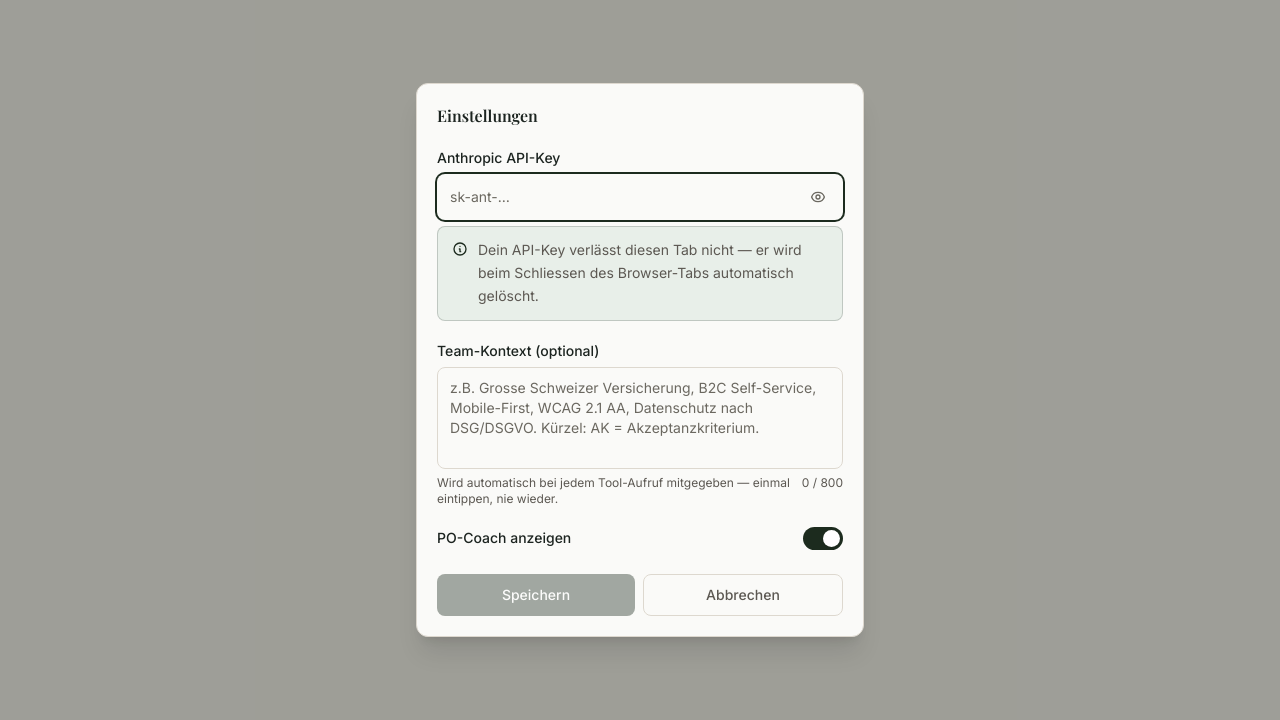
SettingsDialog — Speichern › Speichern-Button ist aktiv mit Eingabe
Step 1. Type "sk-ant-xy" into the password field labelled "Anthropic API-Key" → (618, 197), box [438,177,798,217]
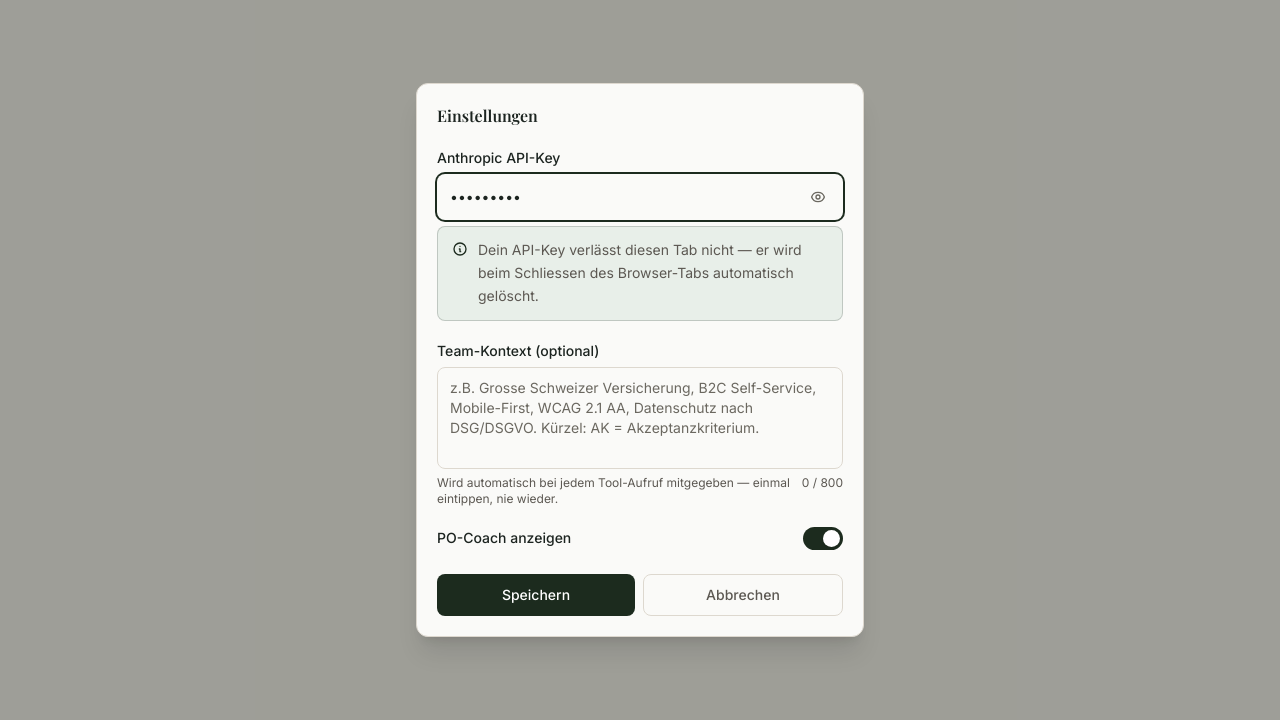
Now the button "Speichern" is enabled, box [437,574,635,616]
